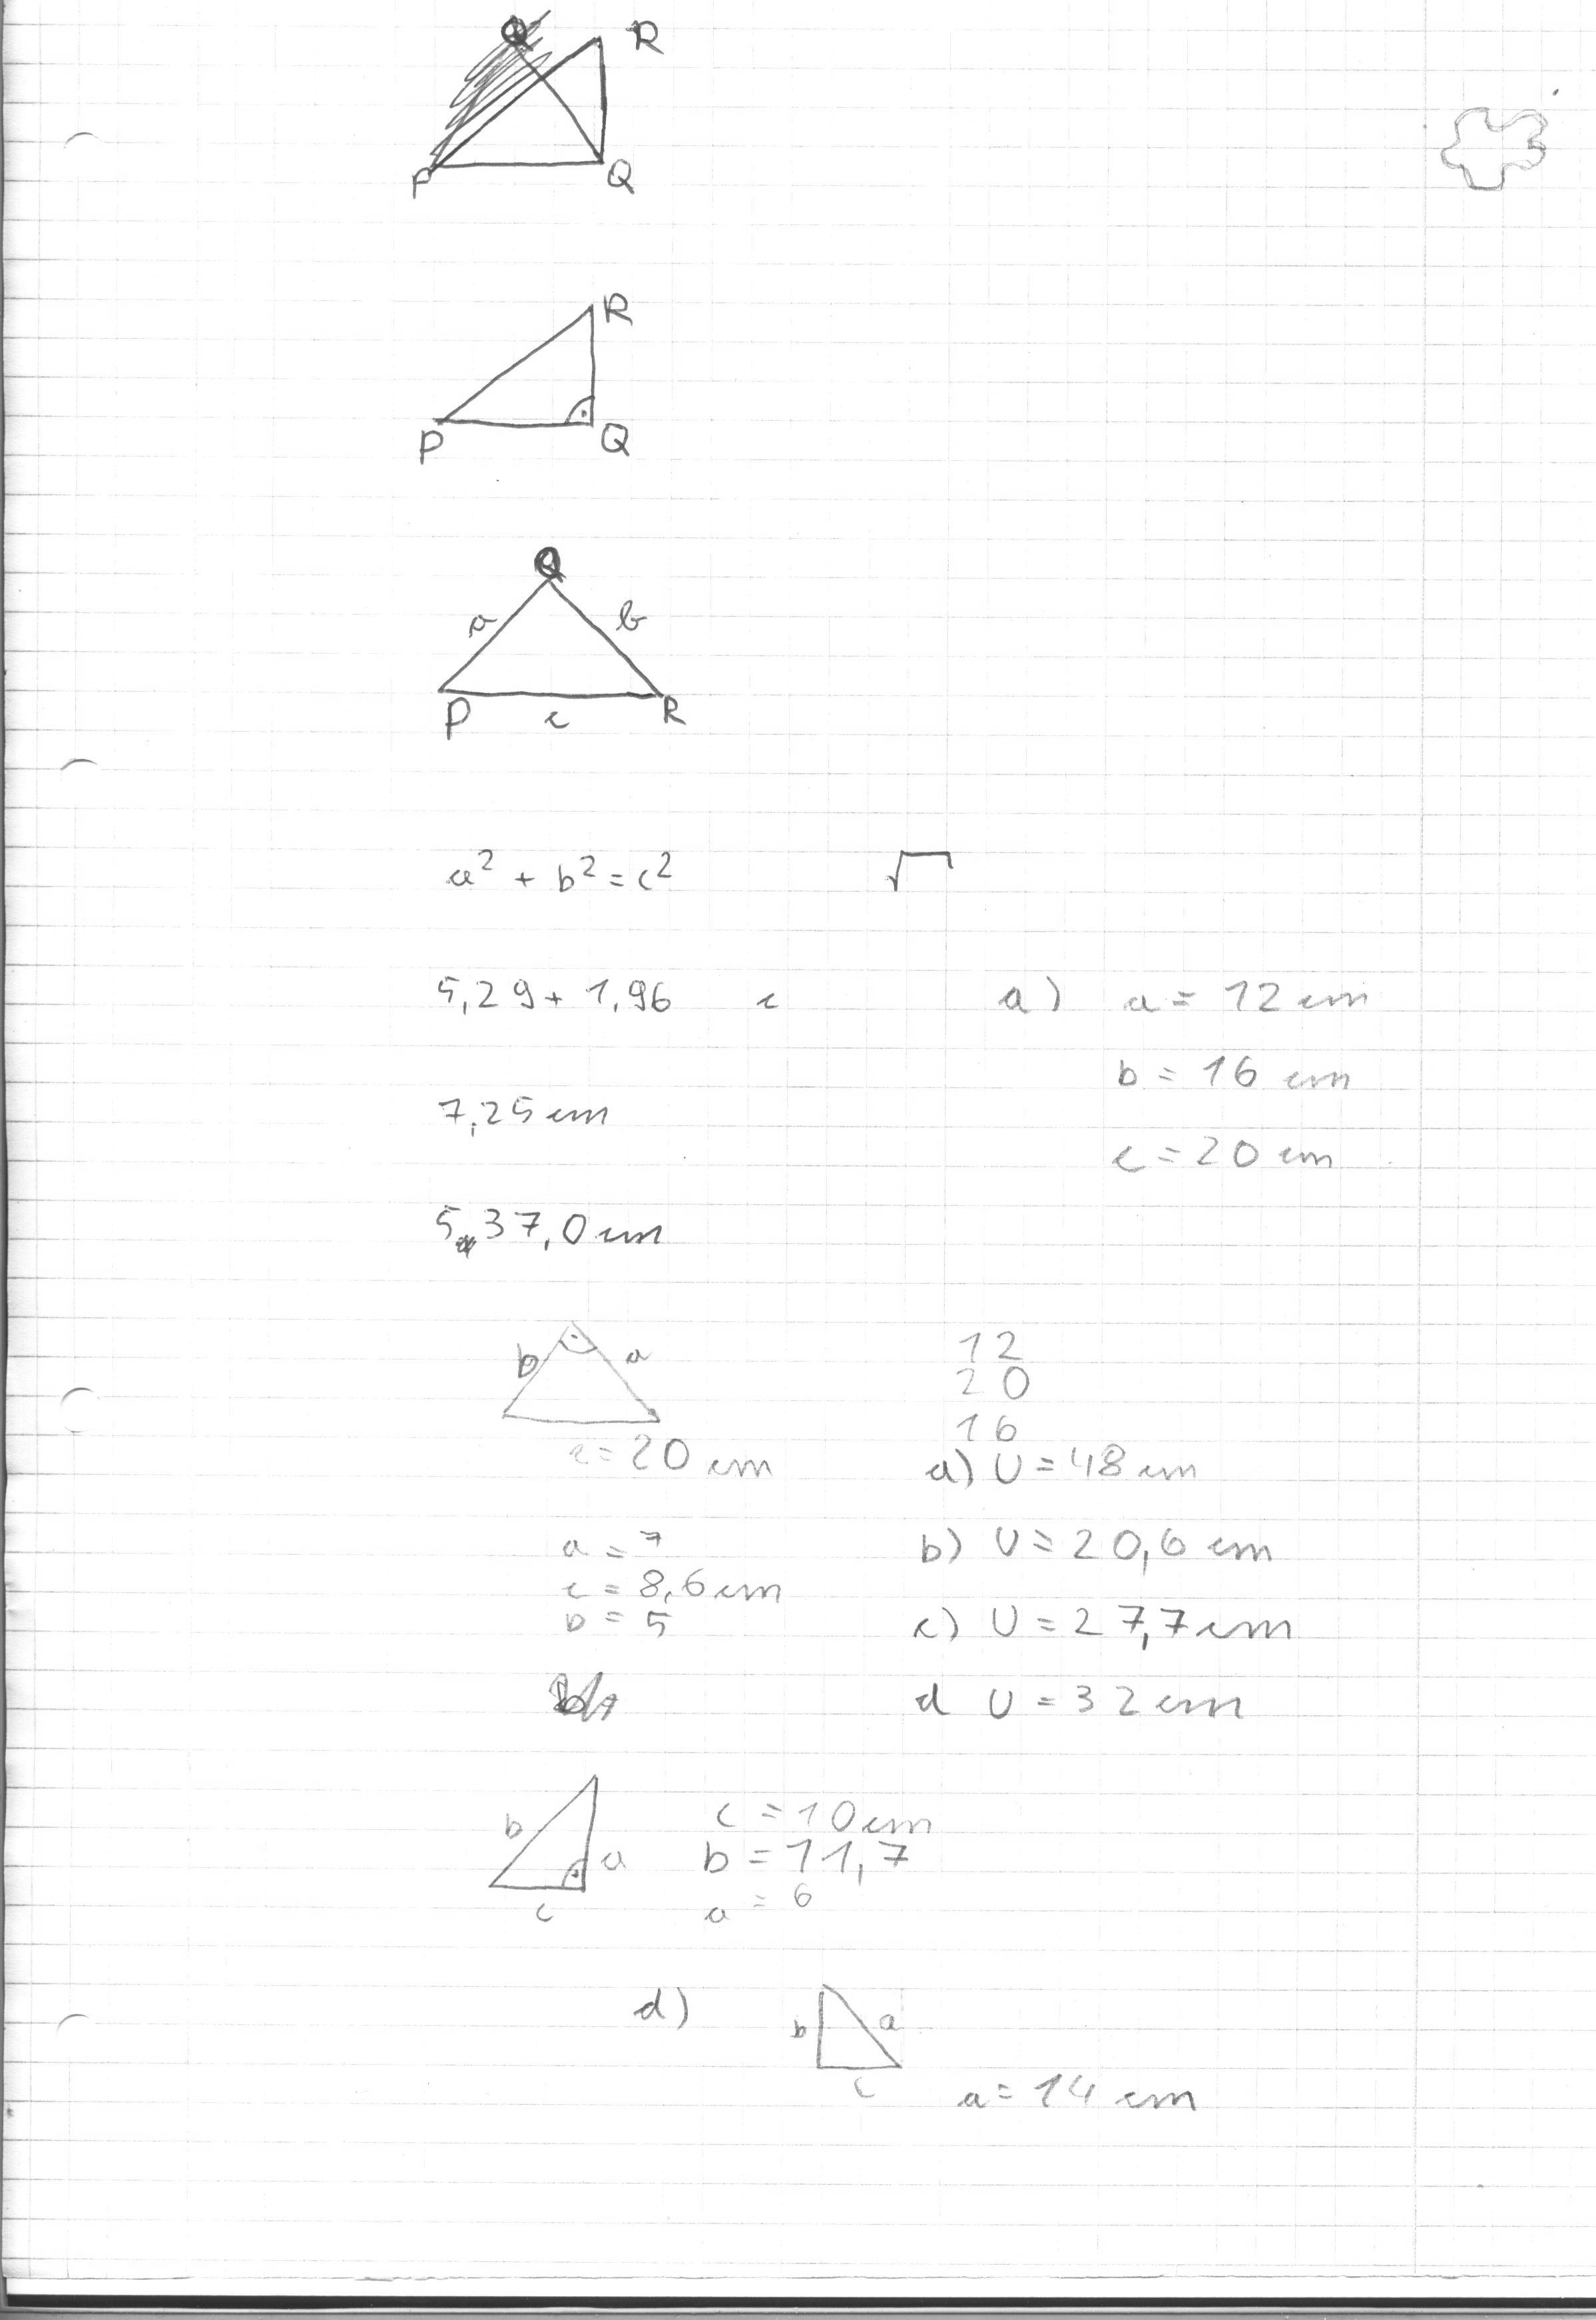word: (892, 1434, 1315, 1742), (520, 1416, 808, 1739), (1079, 954, 1390, 1216), (667, 1767, 960, 1952), (406, 1068, 676, 1263), (401, 817, 700, 935), (411, 949, 703, 1047)
